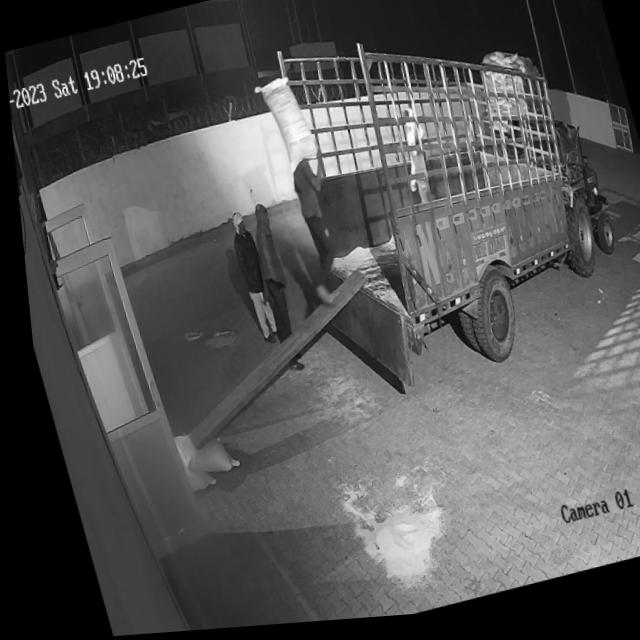sack: (251, 78, 316, 176), (163, 424, 231, 484)
